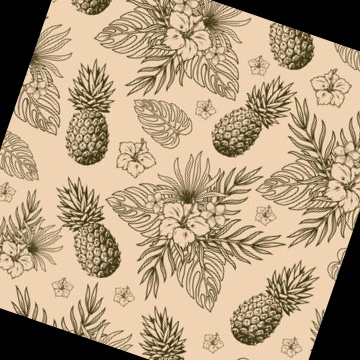Pineapple: (227, 259, 321, 347), (207, 76, 298, 158), (58, 177, 121, 277), (65, 59, 116, 164)
